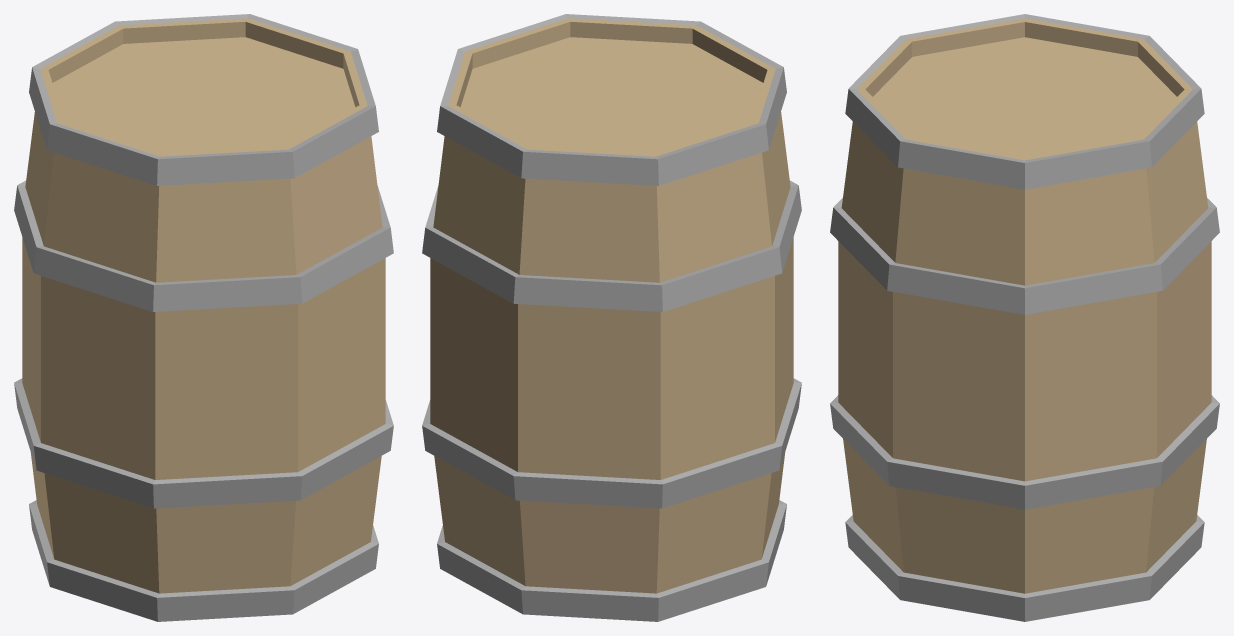
Rendered from Barrel3.fbx.
The picture shows the model from 3 angles, left to right: view 1: azimuth 30°, elevation 25°; view 2: azimuth 150°, elevation 25°; view 3: azimuth 270°, elevation 25°; orthographic projection.
Visible parts, largest first — view 1: Cylinder; view 2: Cylinder; view 3: Cylinder.
Part boxes in pixels (bbox=[...]): Cylinder: bbox=[14, 14, 393, 621]; Cylinder: bbox=[422, 14, 801, 621]; Cylinder: bbox=[830, 14, 1219, 621].
Bounding box in the file's own units: 0.9279 × 1.2 × 0.9279.
